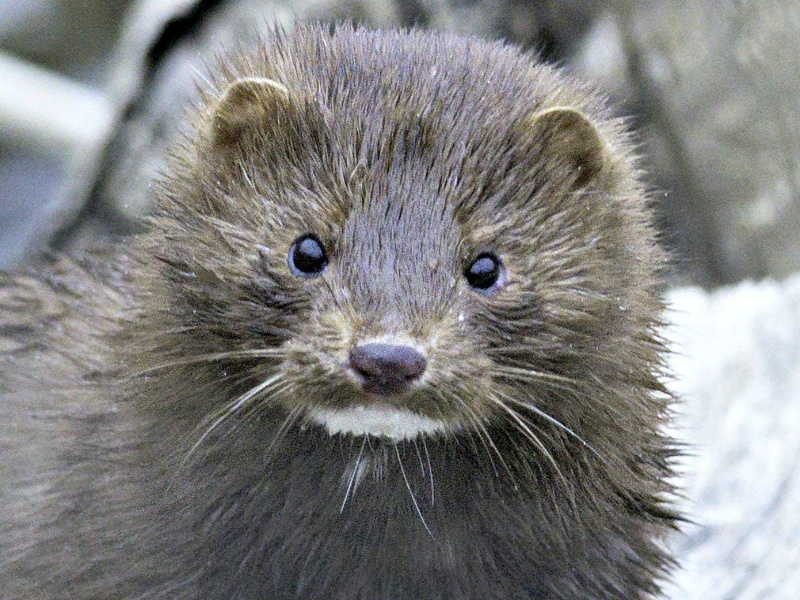minkish: (6, 22, 664, 594)
